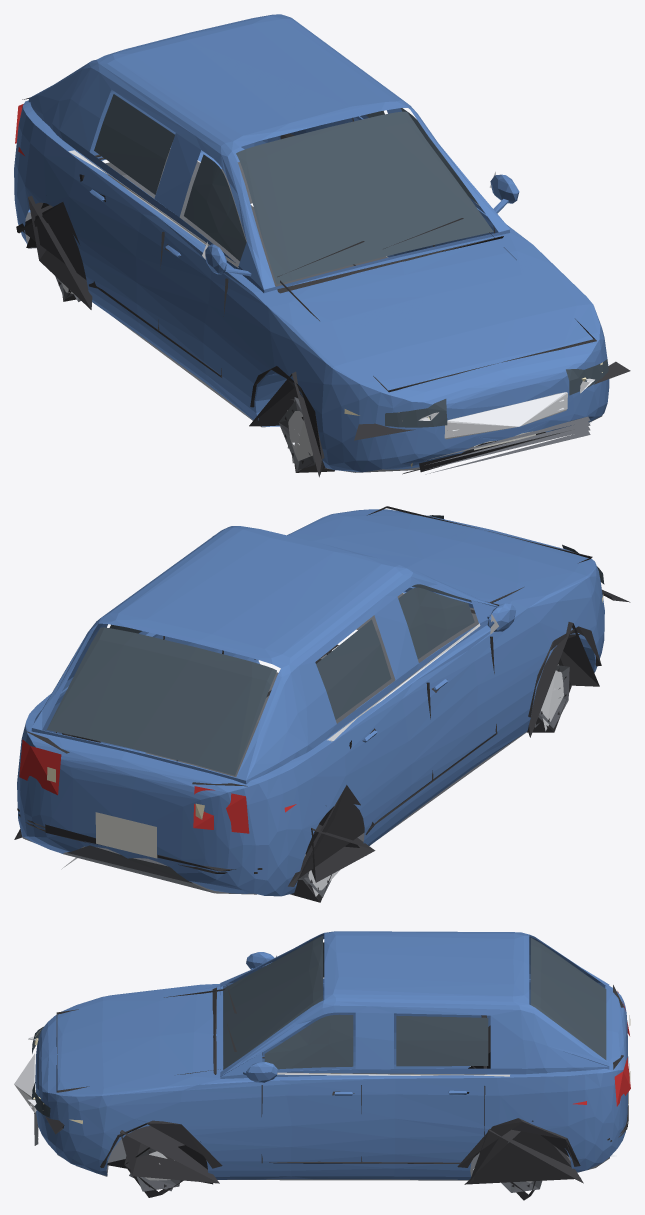
File: CarV3_Hatch_L2.fbx
The picture shows the model from 3 angles, top to bottom: view 1: azimuth 30°, elevation 25°; view 2: azimuth 150°, elevation 25°; view 3: azimuth 270°, elevation 25°; orthographic projection. The views are drawn at different scales.
Parts seen in each view (by area): view 1: CarV3_Hatch.001; view 2: CarV3_Hatch.001; view 3: CarV3_Hatch.001.
Boxes of the visible parts, left/top/right/bottom form: CarV3_Hatch.001: left=14, top=14, right=630, bottom=477; CarV3_Hatch.001: left=14, top=506, right=630, bottom=902; CarV3_Hatch.001: left=14, top=931, right=630, bottom=1200.
Size of the model in its own units: 1.84 by 1.46 by 4.16.
